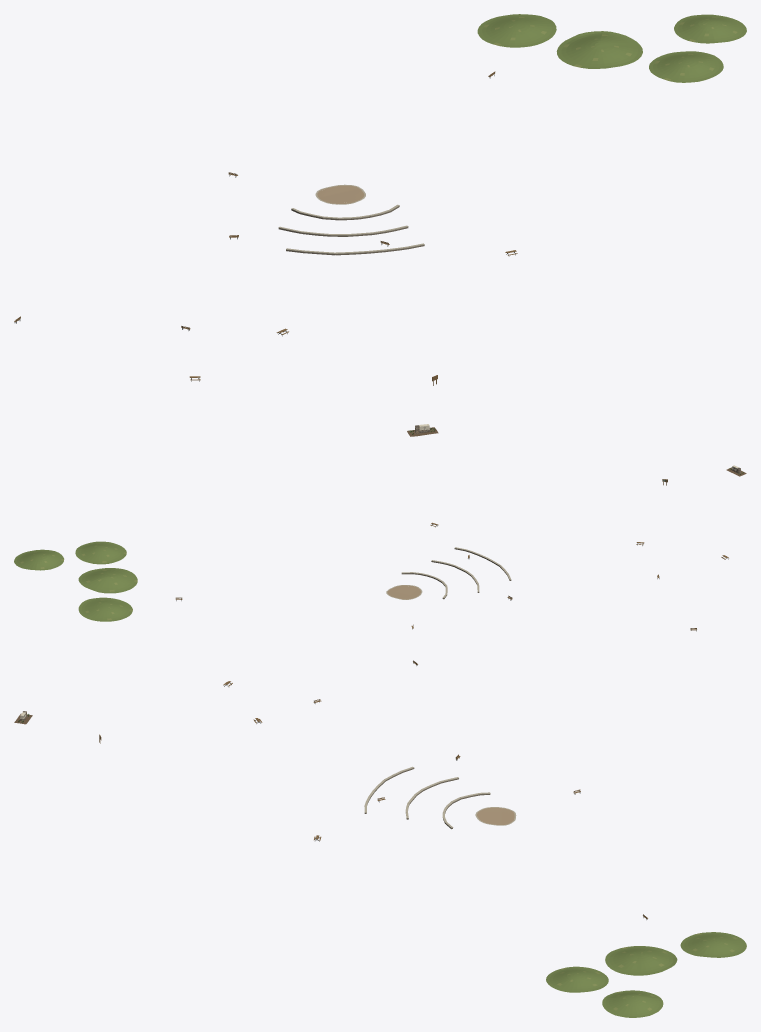
File: lamar-garden.glb
3 renders of one model, top to bottom at view 1: azimuth 30°, elevation 25°; view 2: azimuth 150°, elevation 25°; view 3: azimuth 270°, elevation 25°, orthographic. The views are drawn at different scales.
Visible parts, largest first — view 1: Lamar recreation lawn — play mounds, Mapped outdoor amphitheater — circular stage and curved seat; view 2: Lamar recreation lawn — play mounds, Mapped outdoor amphitheater — circular stage and curved seat; view 3: Lamar recreation lawn — play mounds, Mapped outdoor amphitheater — circular stage and curved seat.
Boxes of the visible parts, bbox=[...] form: Lamar recreation lawn — play mounds: bbox=[477, 14, 746, 82]; Mapped outdoor amphitheater — circular stage and curved seat: bbox=[278, 184, 424, 255]; Lamar recreation lawn — play mounds: bbox=[14, 541, 137, 621]; Mapped outdoor amphitheater — circular stage and curved seat: bbox=[386, 547, 511, 599]; Lamar recreation lawn — play mounds: bbox=[546, 932, 746, 1017]; Mapped outdoor amphitheater — circular stage and curved seat: bbox=[364, 766, 516, 829].
Bounding box in the file's own units: 195 × 7 × 172.
